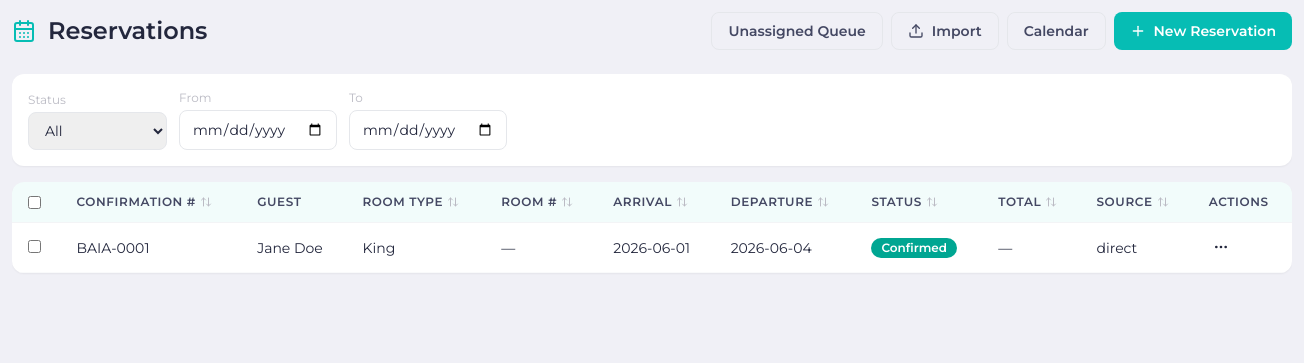
Test case: Reservations — bulk actions › disables Apply when no selected reservation is eligible for the action
Click the checkbox named "Select row" at (34, 246), box top-left (28, 240), bottom-right (41, 252)
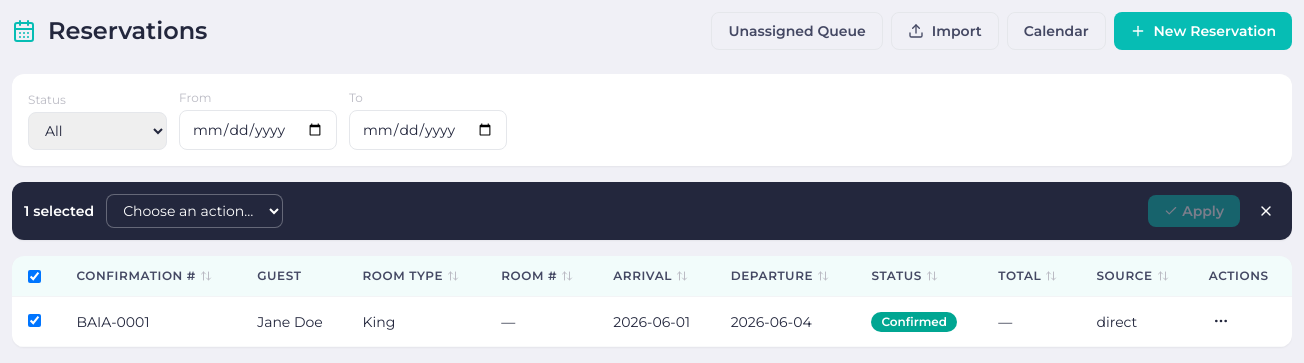
Note: A confirmed reservation cannot be checked out.
Select "Check Out" in the dropdown named "Choose an action…" at (195, 211), box top-left (106, 194), bottom-right (283, 228)
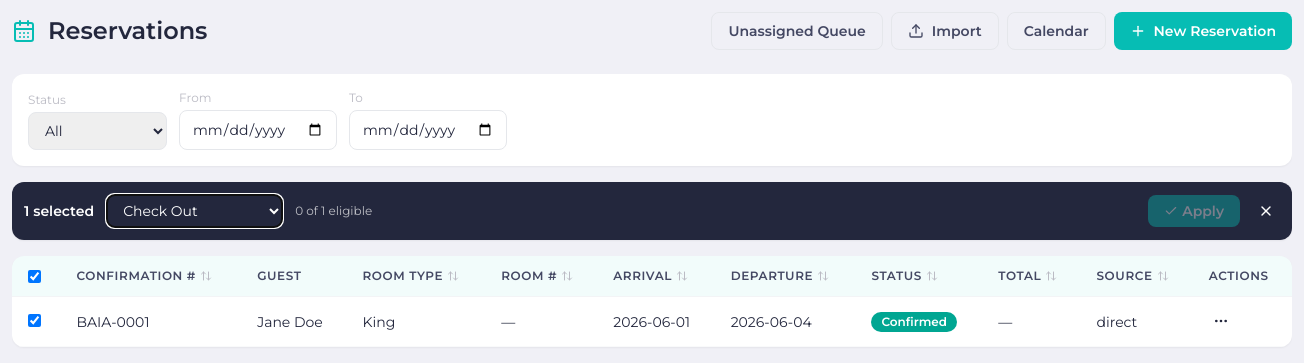
Expected: the button "Apply" is disabled, top-left (1148, 195), bottom-right (1240, 227)
Expected: the text "0 of 1 eligible" is shown, top-left (295, 203), bottom-right (372, 219)
